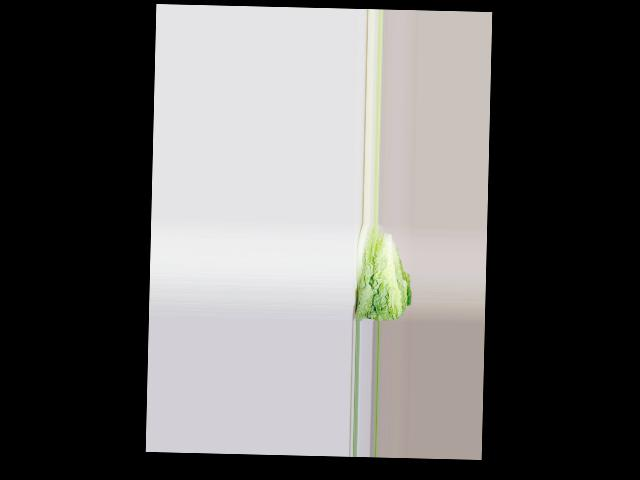lettuce: (352, 227, 406, 322)
